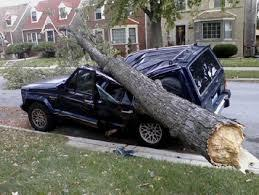Door: (48, 64, 134, 138)
